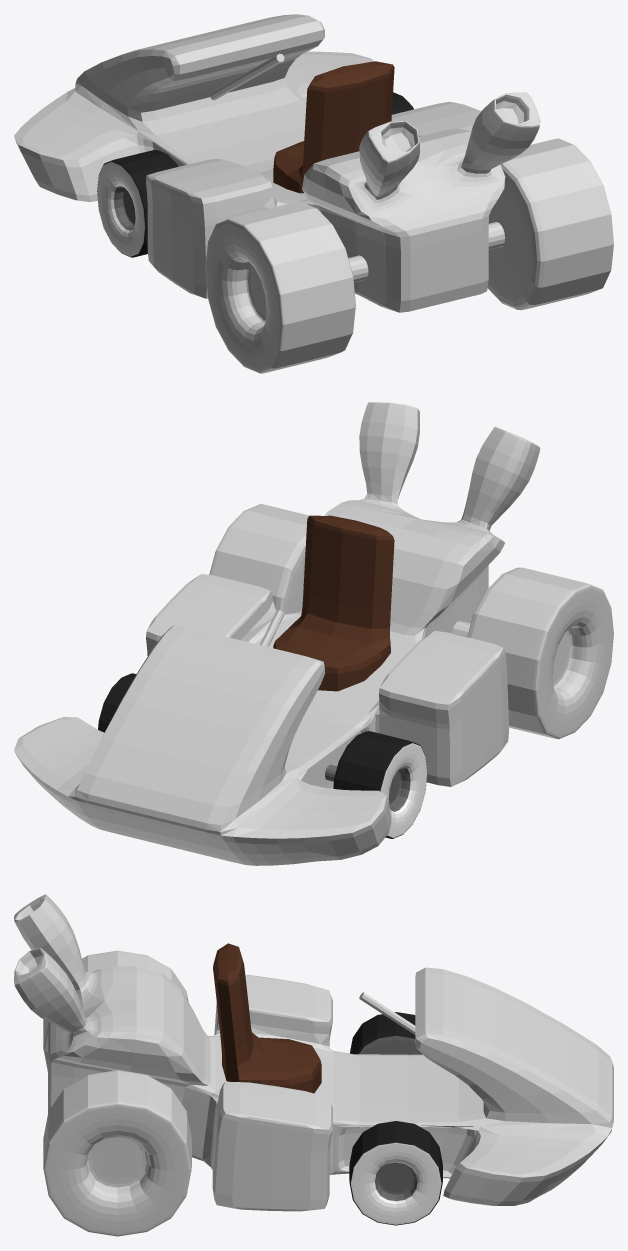
The picture shows the model from 3 angles, top to bottom: view 1: azimuth 30°, elevation 25°; view 2: azimuth 150°, elevation 25°; view 3: azimuth 270°, elevation 25°; orthographic projection. The views are drawn at different scales.
Visible parts, largest first — view 1: WithoutFrontWheelsKart, Cube, WheelsFront; view 2: WithoutFrontWheelsKart, Cube, WheelsFront; view 3: WithoutFrontWheelsKart, WheelsFront, Cube.
Boxes of the visible parts, box(x1,y1,x2,y2) form: WithoutFrontWheelsKart: box(14, 14, 613, 373); Cube: box(273, 61, 394, 193); WheelsFront: box(97, 92, 413, 257); WithoutFrontWheelsKart: box(14, 402, 613, 865); Cube: box(273, 515, 394, 691); WheelsFront: box(98, 673, 427, 838); WithoutFrontWheelsKart: box(14, 894, 613, 1236); WheelsFront: box(349, 1012, 442, 1225); Cube: box(213, 943, 321, 1093).
Size of the model in its own units: 369 by 248 by 575.
